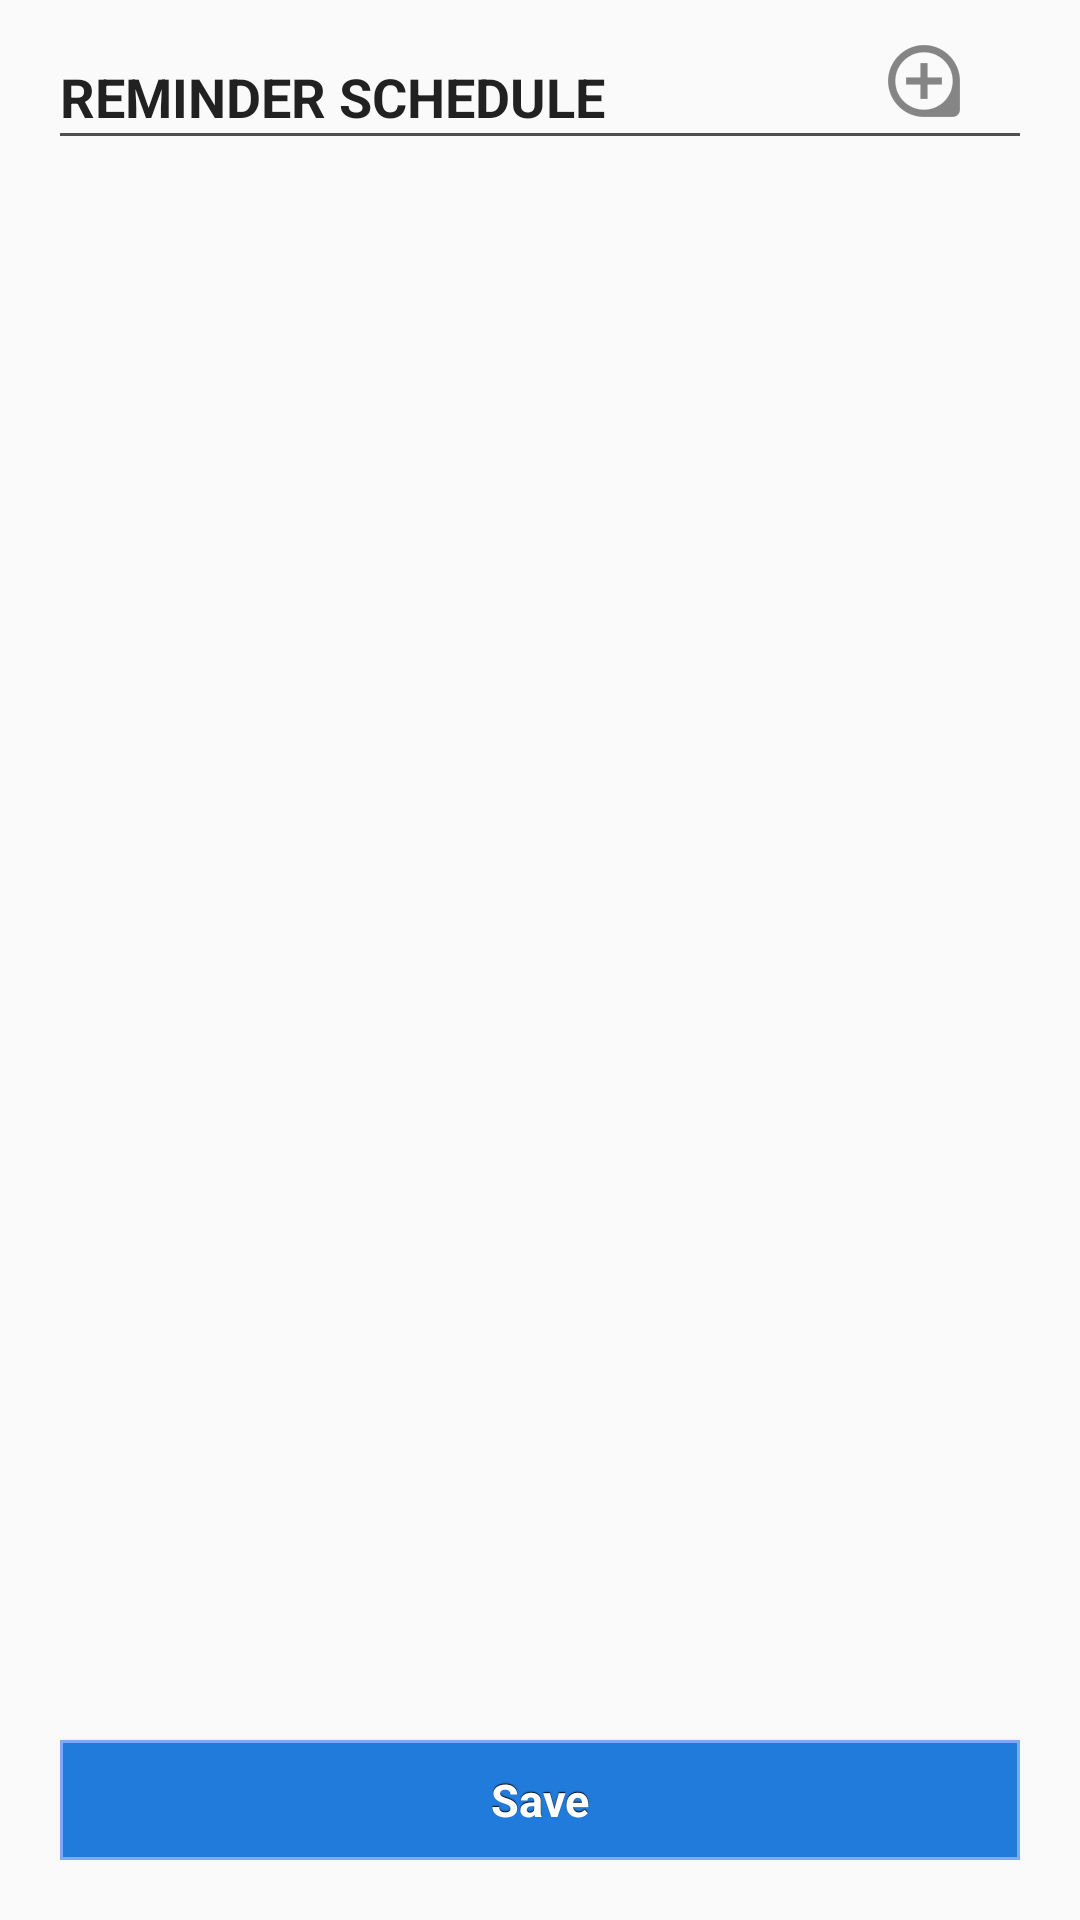

Screen size 1080px x 1920px. Icon name, then its box in pixels as (x1, y1, x2, y2):
add cat: (888, 45, 960, 117)
